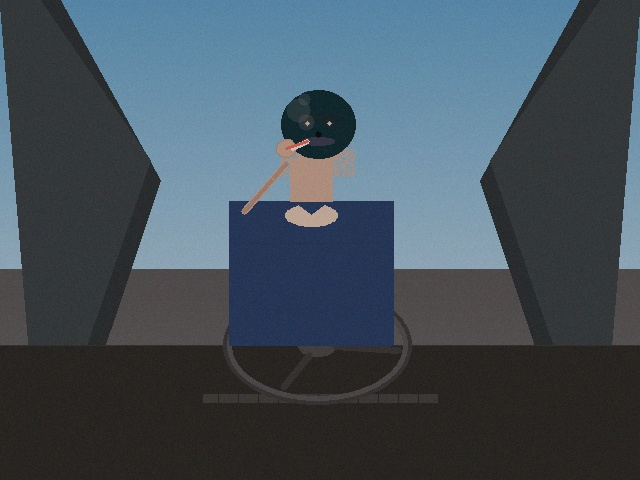smoking: (276, 133, 302, 163)
